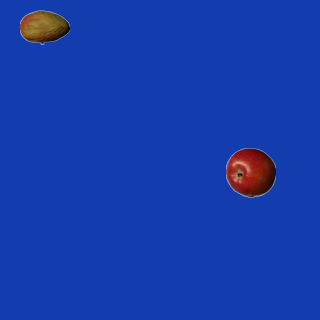Apple Braeburn: (225, 147, 275, 197)
Papaya: (19, 2, 69, 52)
